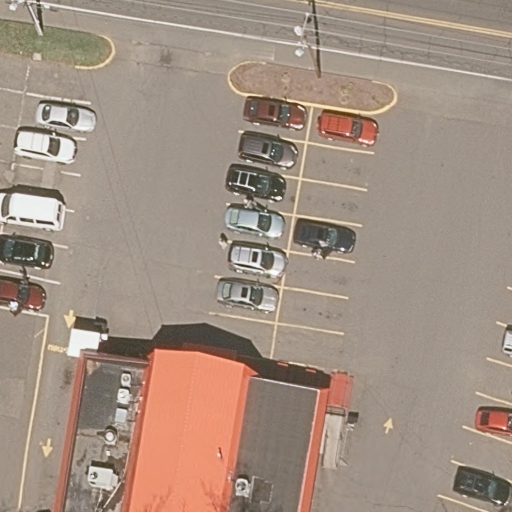DT: (293, 11, 322, 79), (4, 1, 52, 36)
